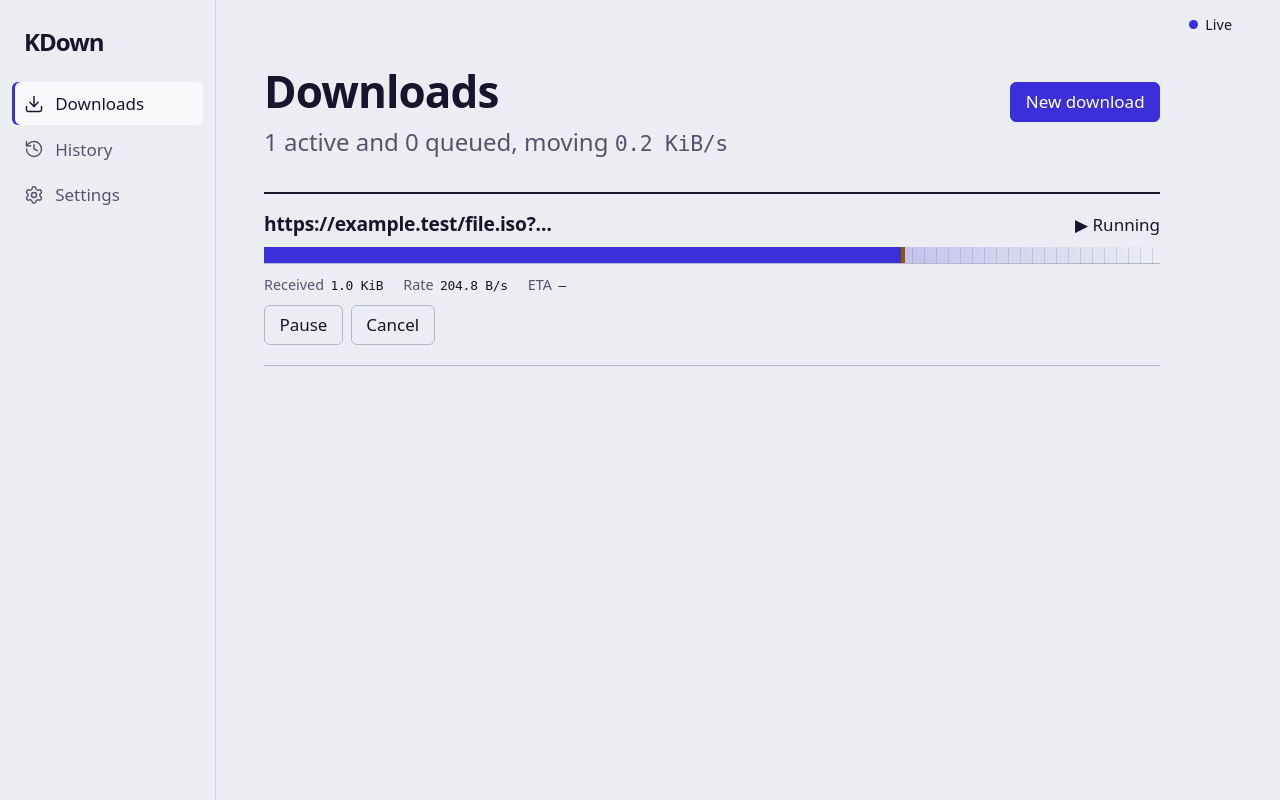
Test case: NewDownloadDrawer › maps server field errors and keeps the drawer open
Click the button "New download". click: (1085, 102)
box: [1010, 82, 1160, 122]
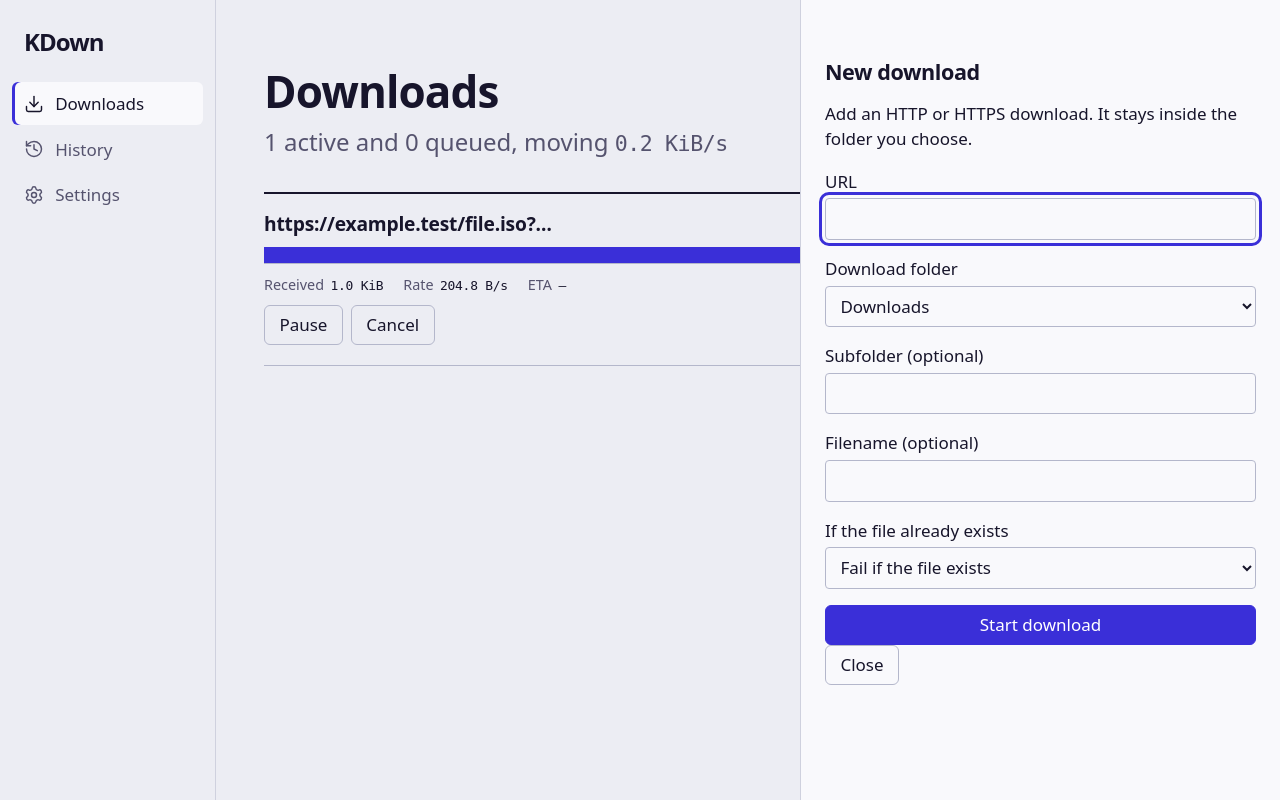
Type "file:///tmp/a" into the field labelled "URL". click: (1040, 219)
box: [825, 198, 1256, 240]
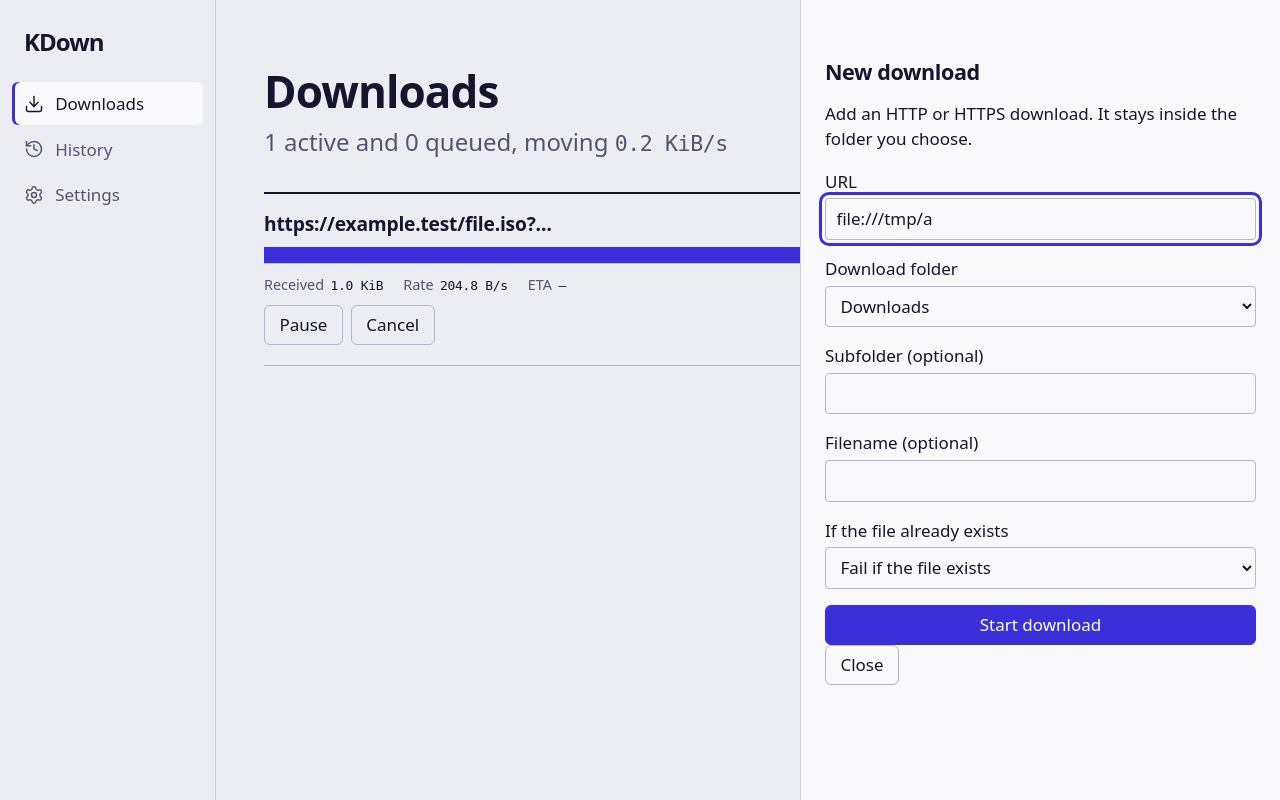
Click the button "Start download". click: (1040, 625)
box: [825, 605, 1256, 645]
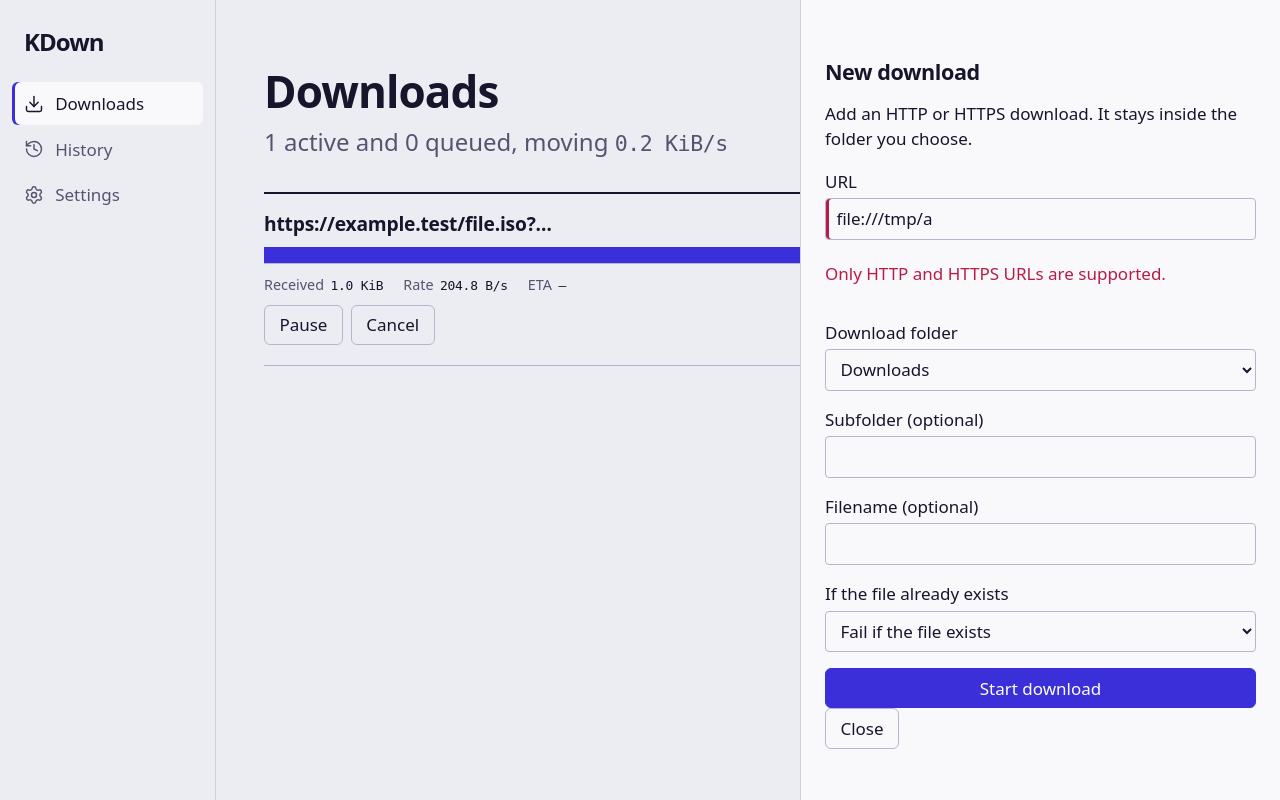
Result: the dialog is shown at [800, 0, 1279, 799]
Result: the text "Only HTTP and HTTPS URLs are supported." is shown at [825, 262, 1166, 285]
